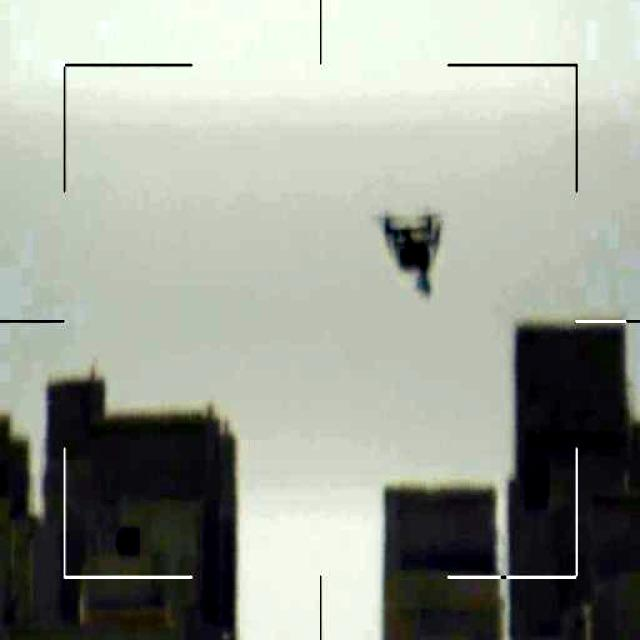bird: (380, 210, 449, 301)
